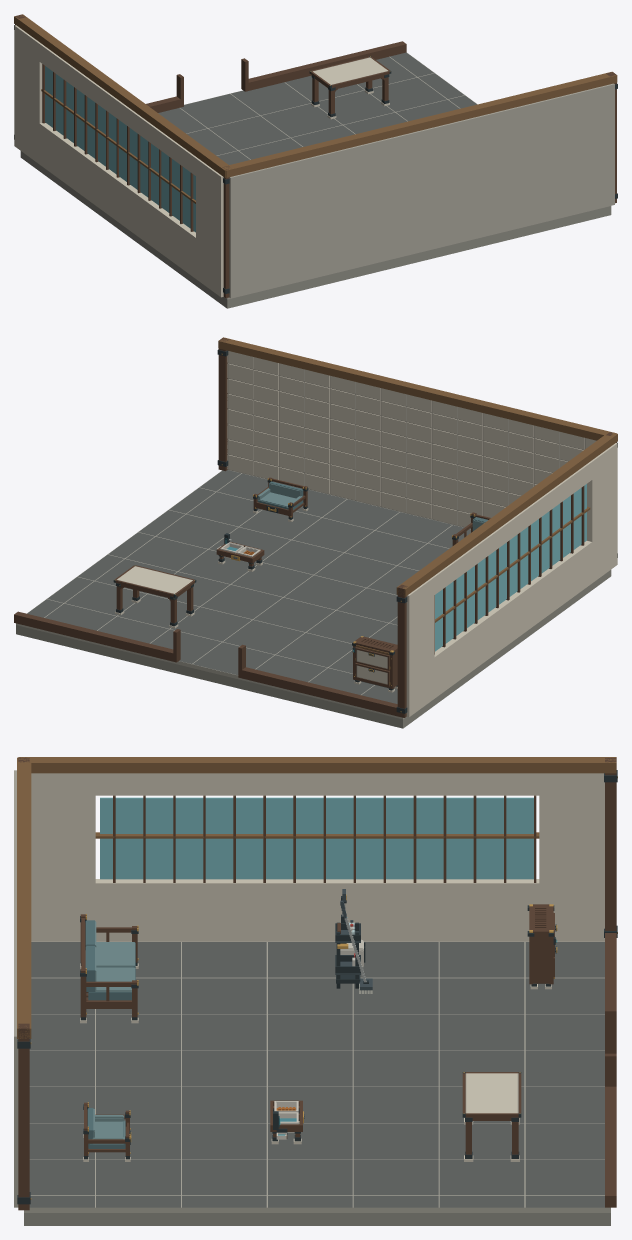
Rendered from visual-far.glb.
3 renders of one model, top to bottom at view 1: azimuth 30°, elevation 25°; view 2: azimuth 150°, elevation 25°; view 3: azimuth 270°, elevation 25°, orthographic. The views are drawn at different scales.
Parts seen in each view (by area): view 1: 真实窗洞、木梁与切角房间墙, 分层实心台基与独立石铺面, 餐桌桌架; view 2: 真实窗洞、木梁与切角房间墙, 分层实心台基与独立石铺面, 餐桌桌架, 玄关鞋柜, 宠物寝窝, 宠物食水盆; view 3: 分层实心台基与独立石铺面, 真实窗洞、木梁与切角房间墙, 餐桌桌架, 沙发软垫靠背, 玄关鞋柜, 沙发框架, 家务清洁工具 · 独立光学用途, 宠物寝窝, 宠物食水盆.
Boxes of the visible parts, box(x1,y1,x2,y2) form: 真实窗洞、木梁与切角房间墙: box(14, 14, 617, 298); 分层实心台基与独立石铺面: box(20, 52, 611, 308); 餐桌桌架: box(309, 56, 391, 119); 真实窗洞、木梁与切角房间墙: box(14, 337, 617, 717); 分层实心台基与独立石铺面: box(16, 470, 611, 728); 餐桌桌架: box(113, 565, 196, 628); 玄关鞋柜: box(352, 636, 397, 692); 宠物寝窝: box(253, 477, 308, 521); 宠物食水盆: box(216, 533, 264, 571); 分层实心台基与独立石铺面: box(24, 941, 610, 1225); 真实窗洞、木梁与切角房间墙: box(14, 757, 617, 1210); 餐桌桌架: box(462, 1072, 521, 1161); 沙发软垫靠背: box(85, 920, 135, 1000); 玄关鞋柜: box(527, 904, 557, 989); 沙发框架: box(80, 914, 138, 1023); 家务清洁工具 · 独立光学用途: box(335, 889, 372, 993); 宠物寝窝: box(83, 1102, 131, 1161); 宠物食水盆: box(270, 1100, 304, 1144).
Bounding box in the file's own units: 9.04 × 3.08 × 8.44.
Materials: 30 (30 with a texture image).
